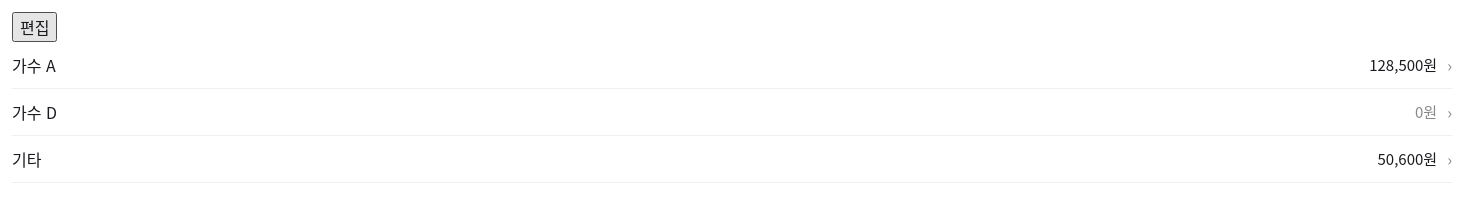
Test case: 편집 목록 (U0-10) › 길게 누르면 편집 모드
The image size is (1464, 200).
Press the mouse on the text "가수 A": (34, 65) top-left (12, 53), bottom-right (56, 77)
Wait 510 ms
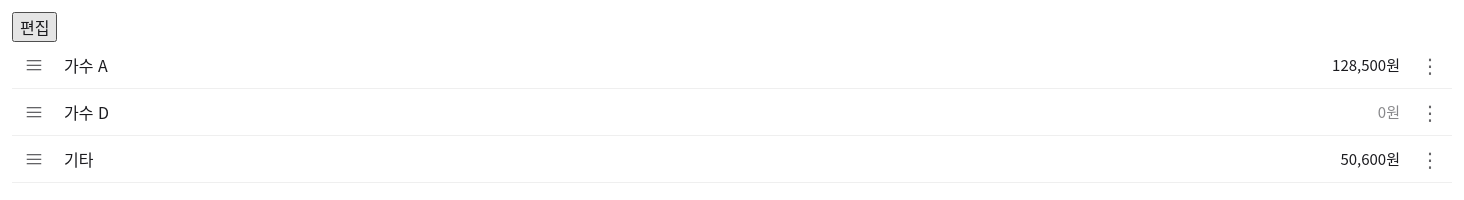
Check: the button named "가수 A 메뉴" is shown, box top-left (1408, 43), bottom-right (1452, 87)
